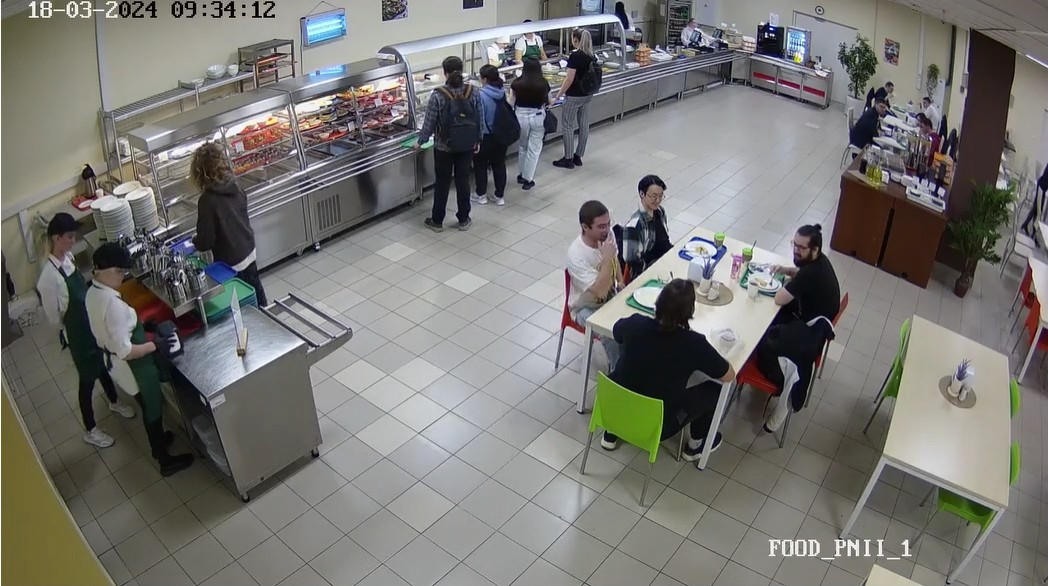Ne_v_Ocheredi: (1024, 155, 1048, 232)
Personal: (67, 236, 261, 523), (32, 209, 125, 450), (602, 0, 636, 44), (679, 11, 716, 48), (515, 17, 545, 53), (482, 27, 510, 59)
Vybiraet: (170, 145, 275, 302), (405, 56, 482, 230), (467, 59, 520, 211), (552, 25, 594, 166), (515, 53, 551, 202)
Za_Stolom: (572, 271, 747, 480), (559, 197, 628, 368), (764, 212, 848, 326), (631, 167, 678, 263), (834, 98, 888, 164), (910, 115, 947, 159), (873, 79, 906, 104), (918, 93, 942, 115)
